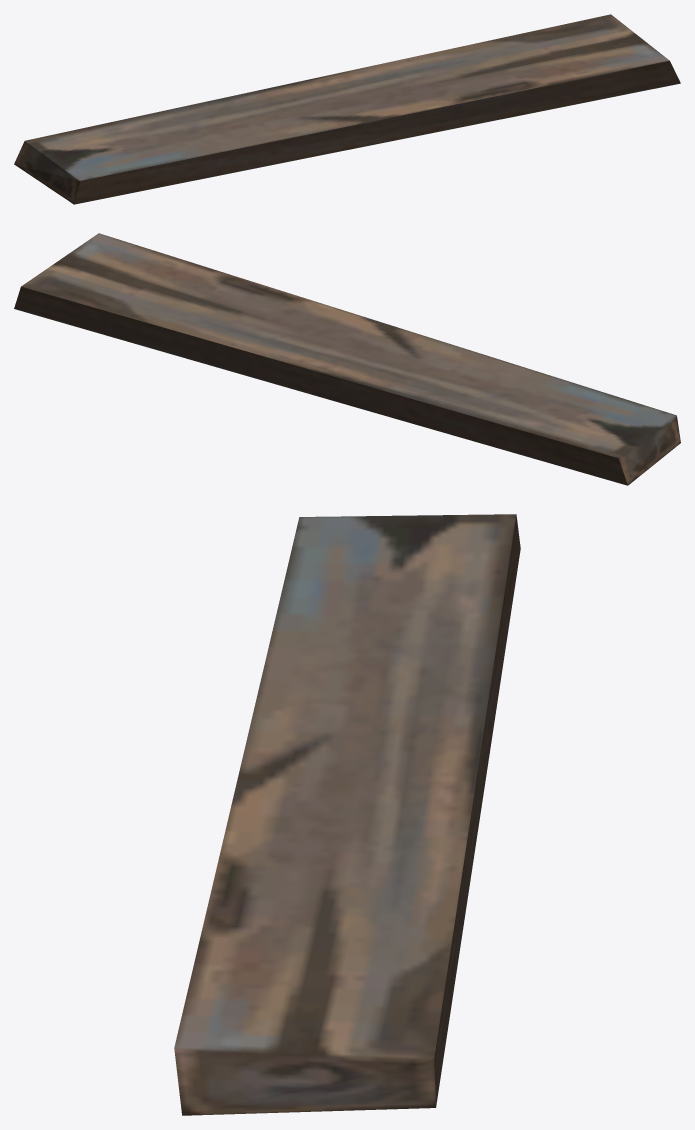
The model's file is mine_board_01.fbx.
3 views of the same model, one above another, from view 1: azimuth 30°, elevation 25°; view 2: azimuth 150°, elevation 25°; view 3: azimuth 270°, elevation 25° (orthographic). The views are drawn at different scales.
Parts seen in each view (by area): view 1: obj0.063; view 2: obj0.063; view 3: obj0.063.
Part boxes in pixels (x1=…): obj0.063: x1=14, y1=14, x2=680, y2=204; obj0.063: x1=14, y1=233, x2=680, y2=485; obj0.063: x1=174, y1=514, x2=520, y2=1115.
Bounding box in the file's own units: 2.38 × 0.1182 × 0.6141.
